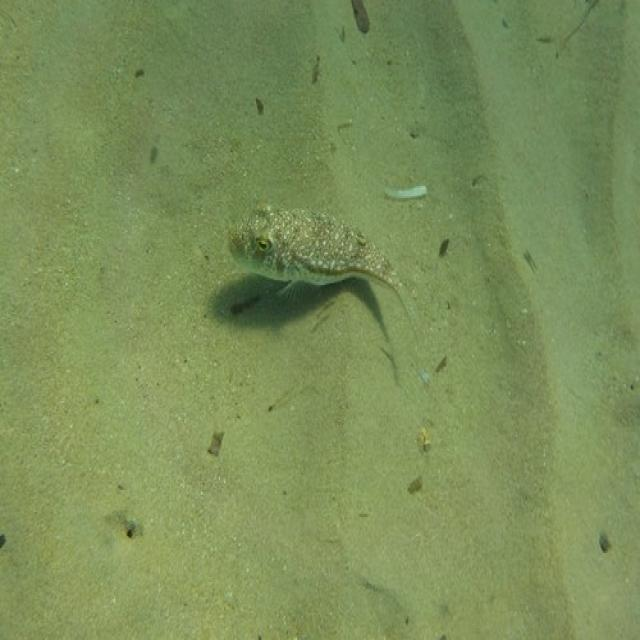Balik: (230, 205, 413, 317)
